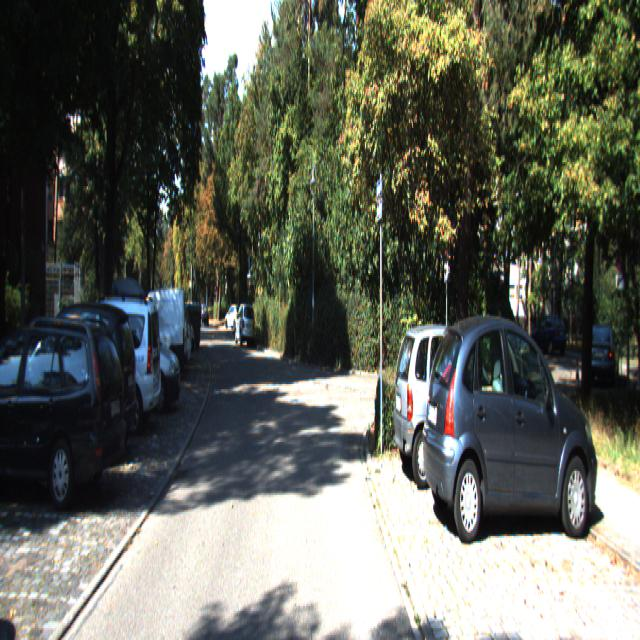Car: (421, 310, 602, 554), (0, 313, 129, 517), (391, 316, 524, 496), (10, 300, 140, 465), (39, 290, 162, 444), (92, 277, 182, 421), (118, 286, 186, 383), (235, 304, 256, 348)
